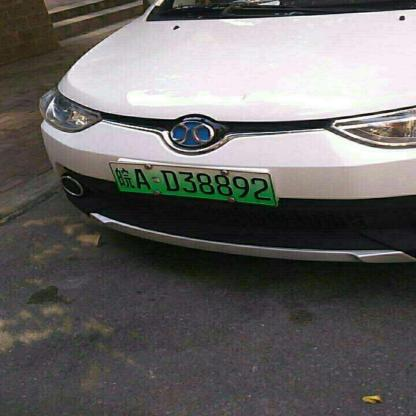lp: (110, 165, 278, 207)
